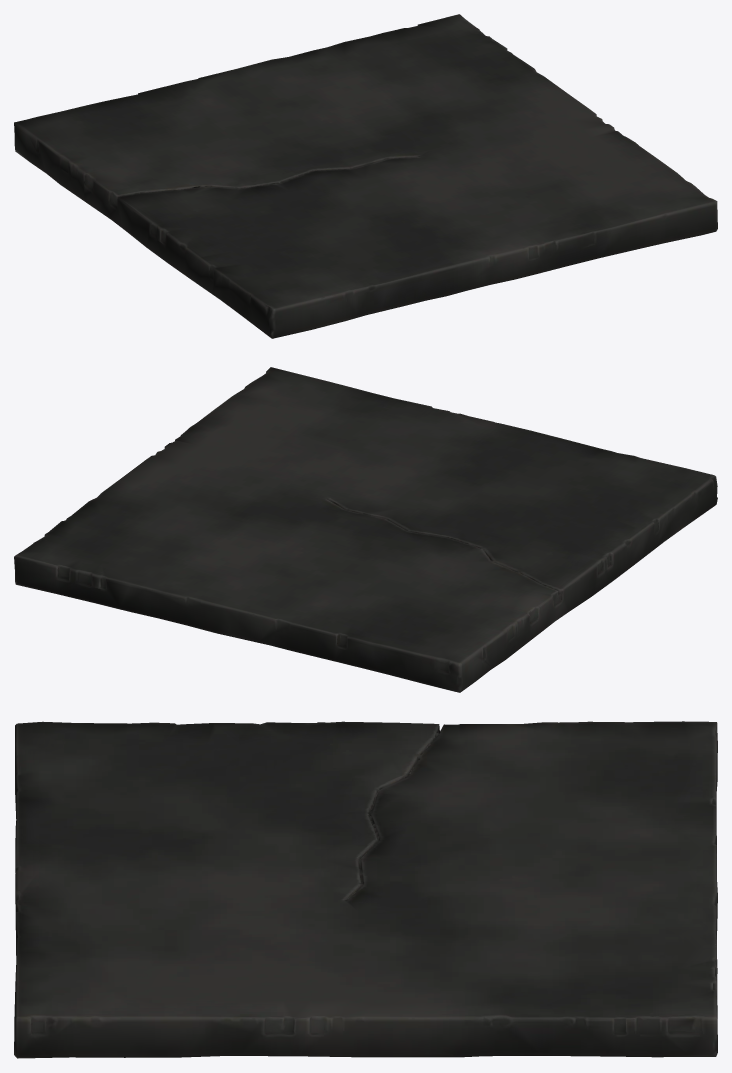
File: slab2-andesite.glb
3 views of the same model, one above another, from view 1: azimuth 30°, elevation 25°; view 2: azimuth 150°, elevation 25°; view 3: azimuth 270°, elevation 25° (orthographic). The views are drawn at different scales.
Parts seen in each view (by area): view 1: slab2; view 2: slab2; view 3: slab2.
Part boxes in pixels (x1=…): slab2: x1=14, y1=14, x2=717, y2=338; slab2: x1=14, y1=367, x2=717, y2=692; slab2: x1=14, y1=721, x2=717, y2=1058.
Size of the model in its own units: 0.9903 by 0.0649 by 0.9899.
1 material, 1 textured.
